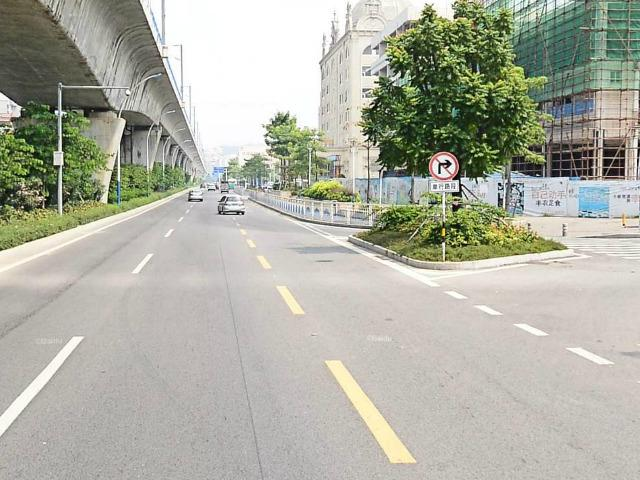not_turn_right: (426, 152, 462, 184)
